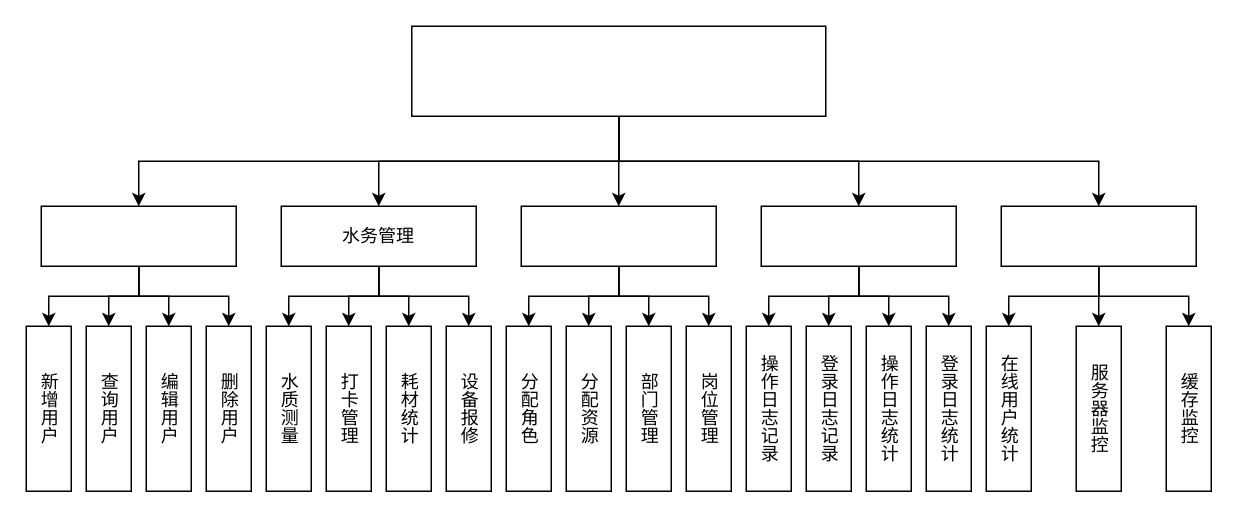
Some shapes in this 1238 by 518 pixel diagram are drawn without their labels. The shapes that lost their labels are listed below. From the top down, each one's centre as x and y in pixels, then its label:
(618,70): 基于SpringBootVue污水厂水务管理系统
(138,235): 用户管理
(618,235): 权限管理
(858,235): 日志模块
(1098,235): 系统监控
